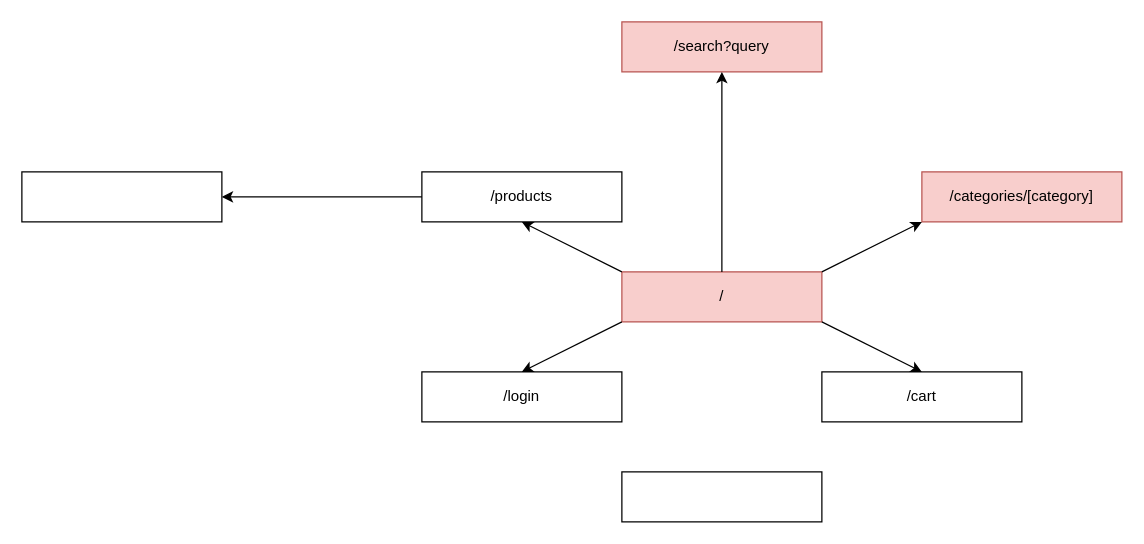
Some shapes in this 1144 by 544 pixel diagram are drawn without their labels. The centre of each missing label's shape, as x and y in pixels:
"/checkout" goes at pixel 721 496.
"/products/[product]" goes at pixel 121 196.
